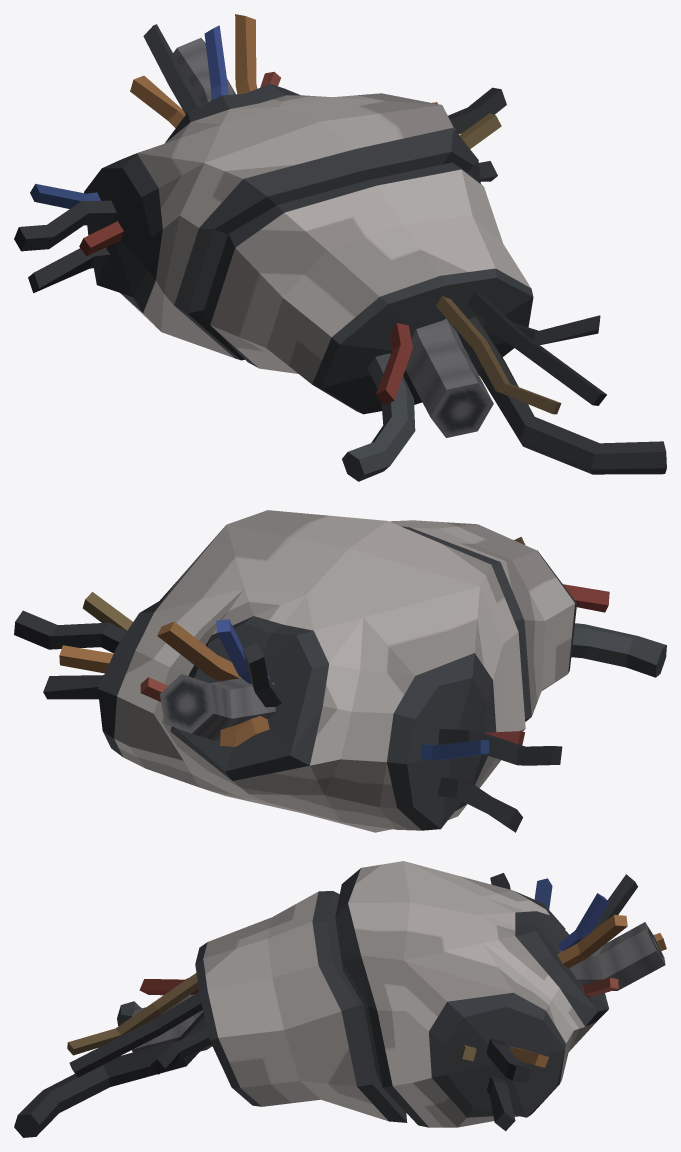
File: SM_Prop_Robot_Part_02.fbx
3 views of the same model, one above another, from view 1: azimuth 30°, elevation 25°; view 2: azimuth 150°, elevation 25°; view 3: azimuth 270°, elevation 25° (orthographic). The views are drawn at different scales.
Parts seen in each view (by area): view 1: SM_Prop_Robot_Part_02; view 2: SM_Prop_Robot_Part_02; view 3: SM_Prop_Robot_Part_02.
Boxes of the visible parts, x1,y1,x2,y2 form: SM_Prop_Robot_Part_02: (14, 14, 666, 481); SM_Prop_Robot_Part_02: (14, 510, 666, 832); SM_Prop_Robot_Part_02: (14, 861, 666, 1137).
Bounding box in the file's own units: 61.35 × 28.52 × 81.73.
